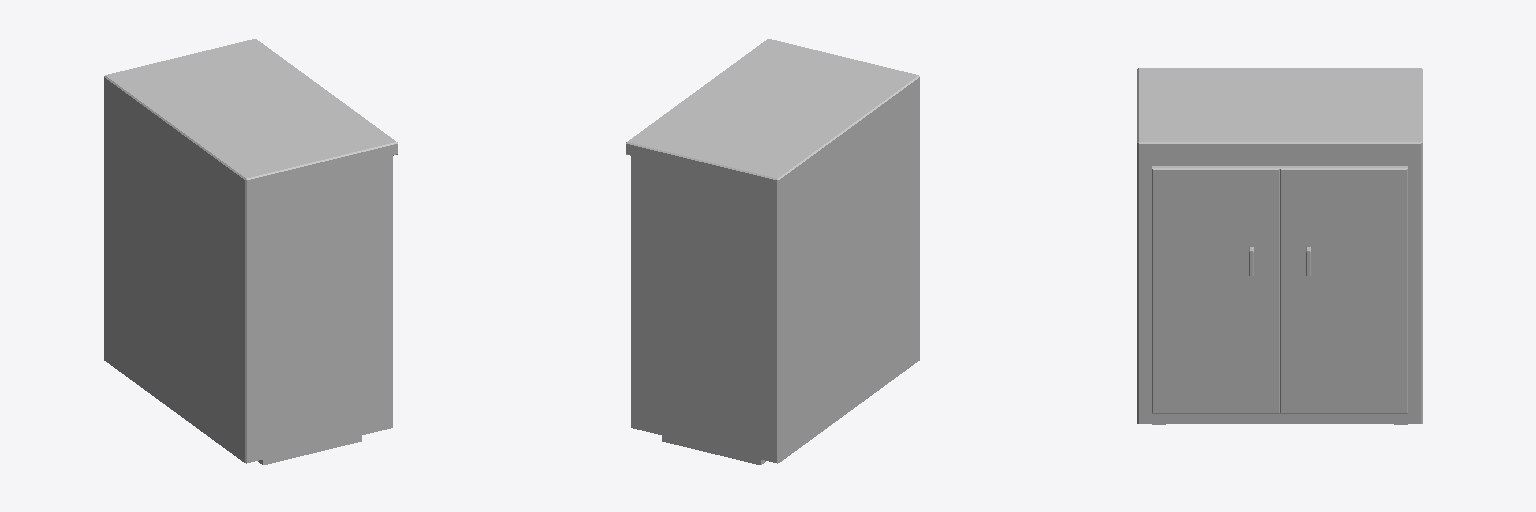
File: cupboard-kitchen.obj
3 renders of one model, left to right at view 1: azimuth 30°, elevation 25°; view 2: azimuth 150°, elevation 25°; view 3: azimuth 270°, elevation 25°, orthographic.
Visible parts, largest first — view 1: cupboard_Cube; view 2: cupboard_Cube; view 3: cupboard_Cube.
Boxes of the visible parts, x1=… form: cupboard_Cube: x1=104, y1=39, x2=397, y2=464; cupboard_Cube: x1=626, y1=39, x2=919, y2=464; cupboard_Cube: x1=1137, y1=68, x2=1422, y2=424.
Bounding box in the file's own units: 0.6609 × 1.15 × 1.